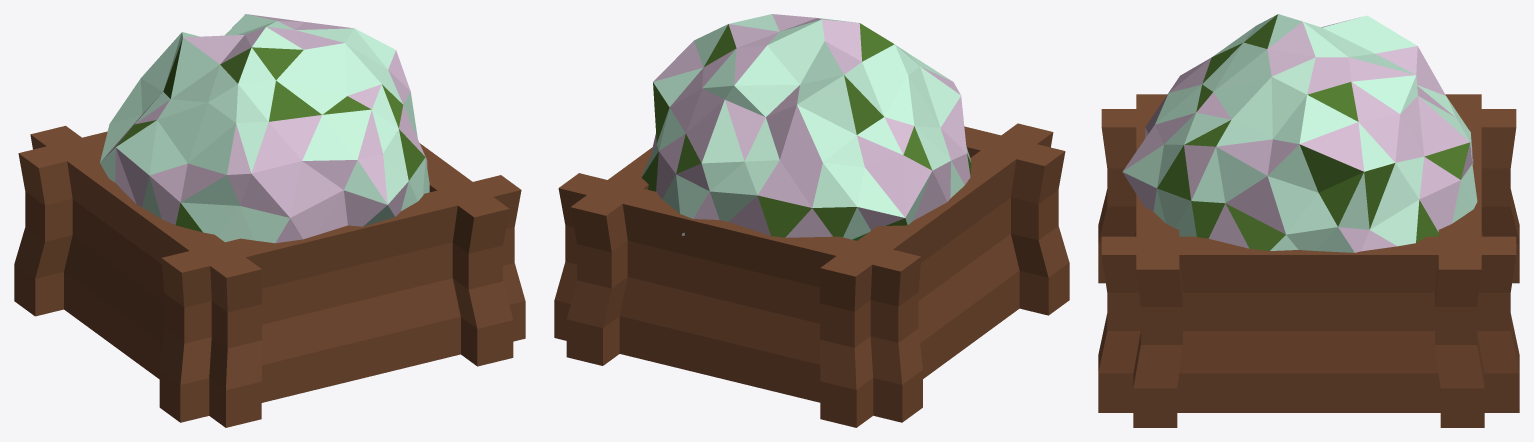
The model's file is FlowersLight.obj.
3 views of the same model, side by side, from view 1: azimuth 30°, elevation 25°; view 2: azimuth 150°, elevation 25°; view 3: azimuth 270°, elevation 25° (orthographic). The views are drawn at different scales.
Parts seen in each view (by area): view 1: Object; view 2: Object; view 3: Object.
Part boxes in pixels (x1,y1,x2,y2): Object: [14, 14, 525, 427]; Object: [554, 14, 1069, 427]; Object: [1098, 14, 1519, 427].
Size of the model in its own units: 2.44 by 2 by 2.44.
